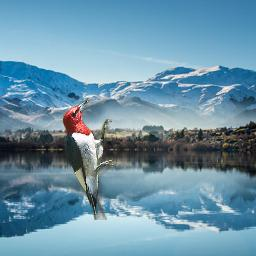Woodpecker: (62, 98, 113, 220)
